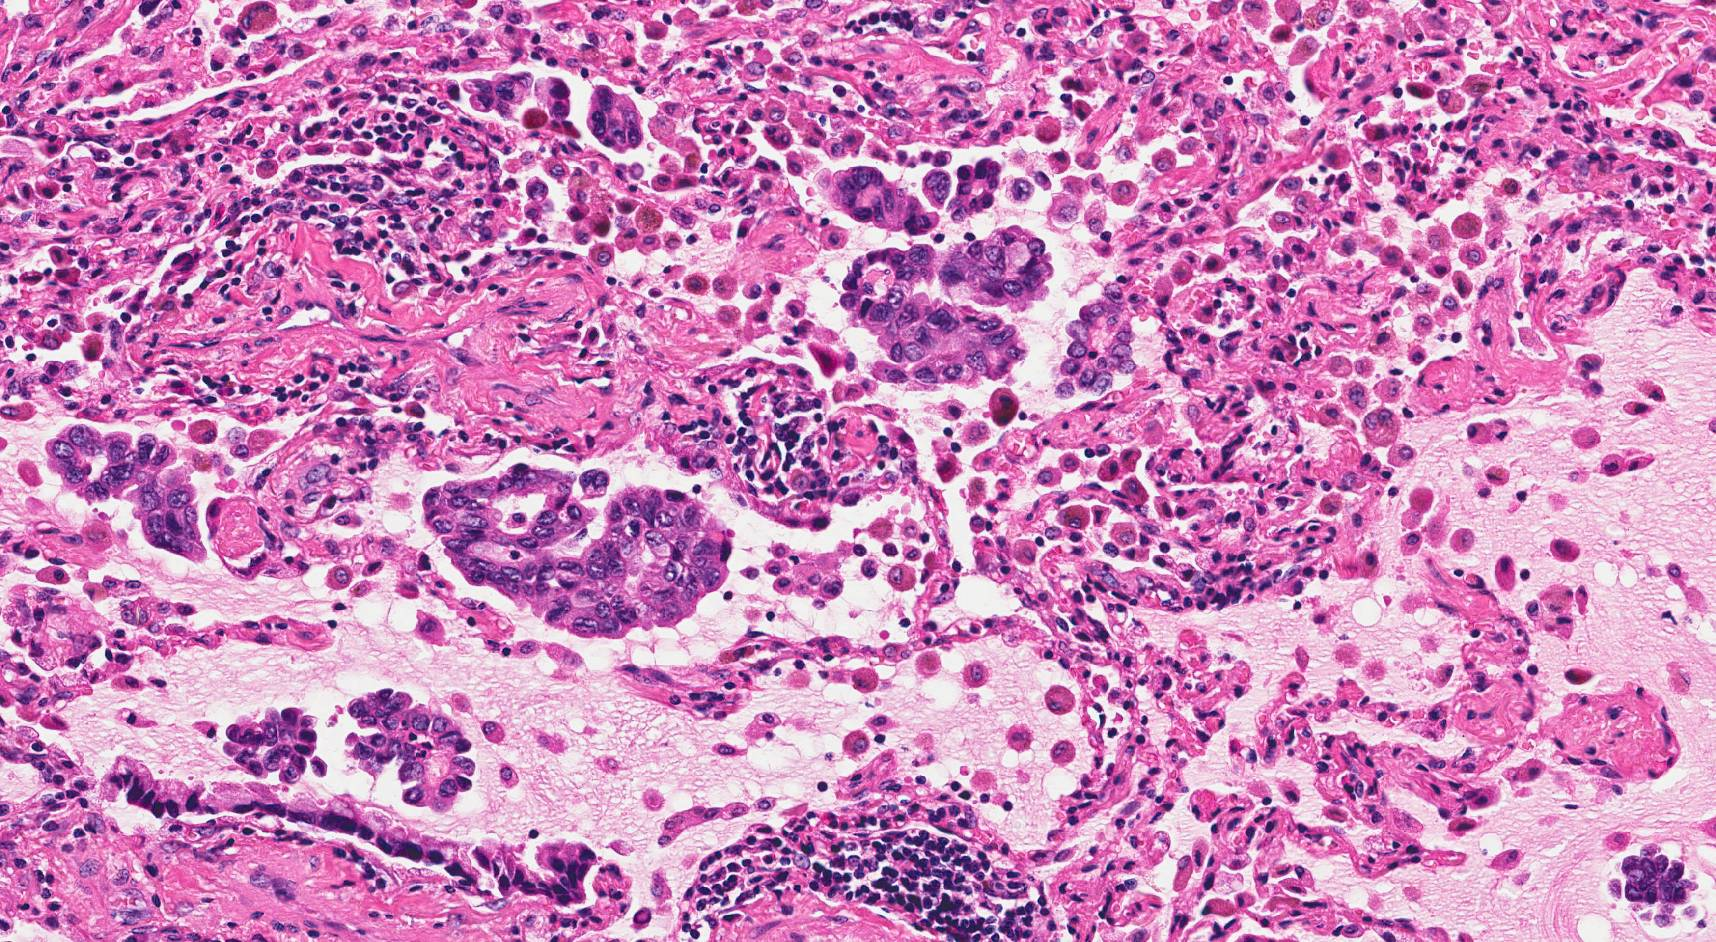stas: (418, 463, 739, 648), (839, 225, 1053, 388), (43, 422, 213, 565), (342, 687, 476, 812), (1055, 281, 1140, 401), (1608, 841, 1705, 933), (818, 163, 942, 235), (218, 706, 331, 784), (457, 72, 571, 127), (921, 159, 1007, 225), (584, 83, 646, 155)
